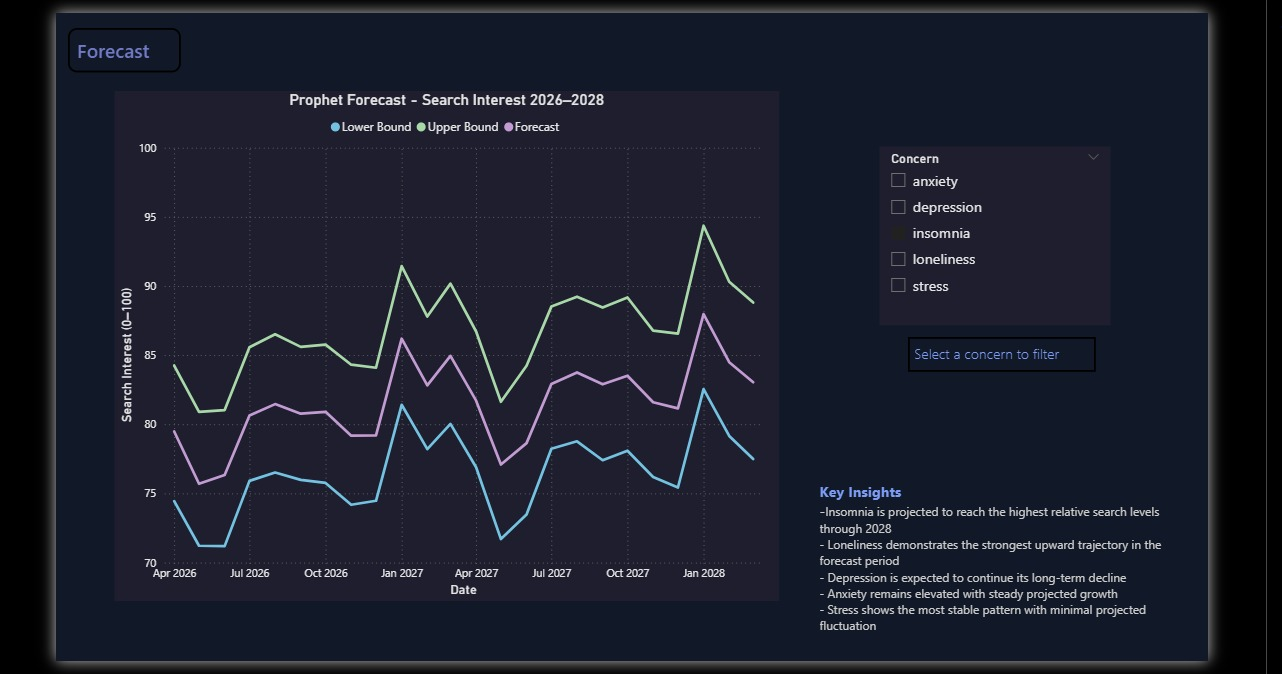

What the dashboard file says about the page in this screenshot:
{"tool":"powerbi","page":{"name":"Forecast","canvas":[1280,720],"ordinal":3},"visuals":[{"type":"lineChart","title":"Prophet Forecast - Search Interest 2026–2028","fields":{"Category":["powerbi_forecast.date"],"Y":["Avg(powerbi_forecast.lower)","Avg(powerbi_forecast.upper)","Avg(powerbi_forecast.forecast)"]},"box":[65,86.7,738.3,566.7],"z":0},{"type":"slicer","fields":{"Values":["powerbi_forecast.concern"]},"box":[915,148.3,256.7,198.3],"z":1000},{"type":"textbox","box":[12.7,15.9,125.7,49.3],"z":2000},{"type":"textbox","box":[946.7,360,208.3,38.3],"z":3000},{"type":"textbox","box":[843.3,515,425,193.3],"z":4000}]}

Visuals, with their boxes on the page's 1280x720 design canvas (x1, y1, x2, y2). These are canvas units, not pixel positions in the 1282x674 screenshot, which may show the page scaled, cropped or inside an application window:
"Prophet Forecast - Search Interest 2026–2028" lineChart: box=[65, 87, 803, 653]
slicer - powerbi_forecast.concern: box=[915, 148, 1172, 347]
textbox: box=[13, 16, 138, 65]
textbox: box=[947, 360, 1155, 398]
textbox: box=[843, 515, 1268, 708]
